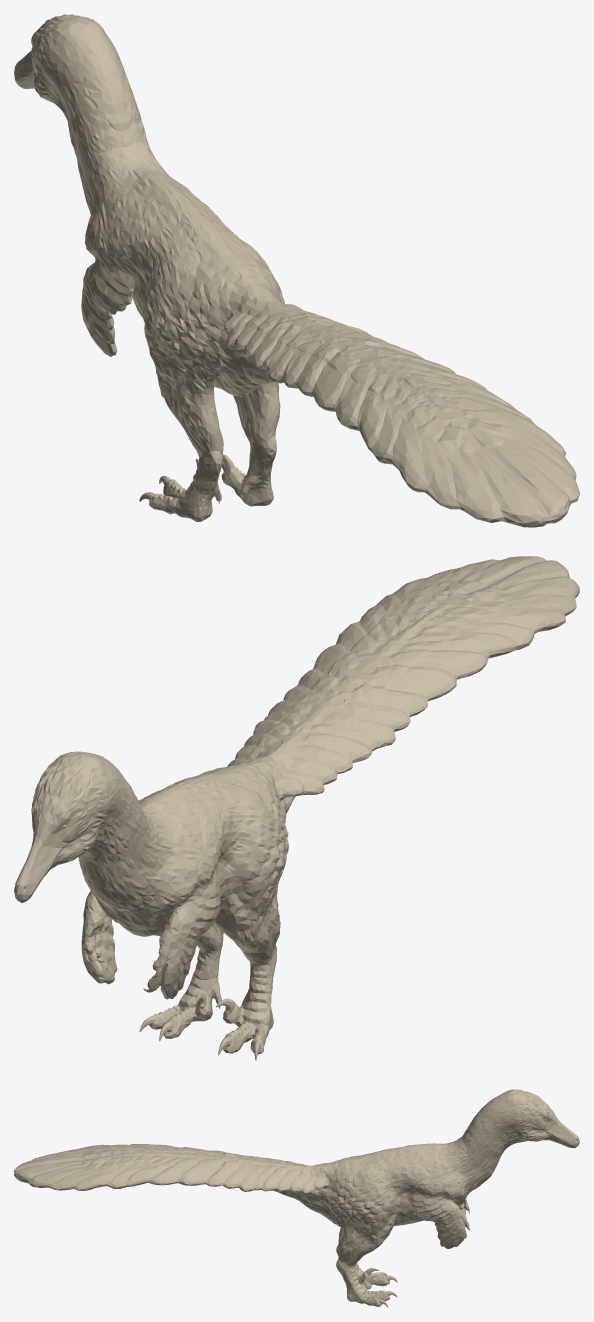
File: austroraptor.glb
The picture shows the model from 3 angles, top to bottom: view 1: azimuth 30°, elevation 25°; view 2: azimuth 150°, elevation 25°; view 3: azimuth 270°, elevation 25°; orthographic projection. The views are drawn at different scales.
Visible parts, largest first — view 1: AustroraptorFigUnposed; view 2: AustroraptorFigUnposed; view 3: AustroraptorFigUnposed.
Boxes of the visible parts, left/top/right/bottom form: AustroraptorFigUnposed: left=14, top=14, right=579, bottom=527; AustroraptorFigUnposed: left=14, top=556, right=579, bottom=1060; AustroraptorFigUnposed: left=14, top=1089, right=579, bottom=1307.
Bounding box in the file's own units: 31.89 × 75.76 × 192.
